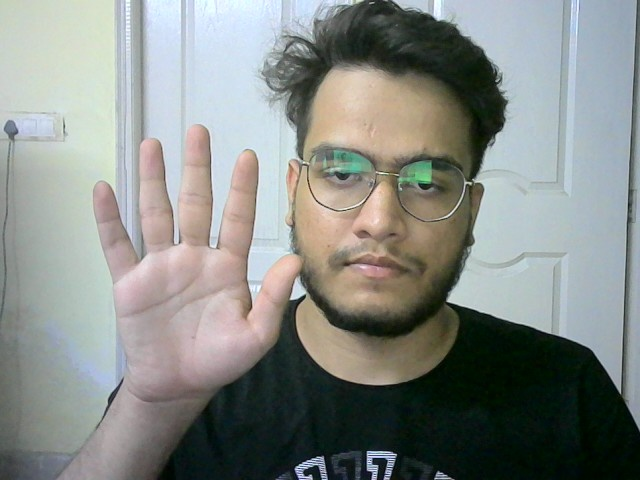Hello: (88, 121, 301, 389)
